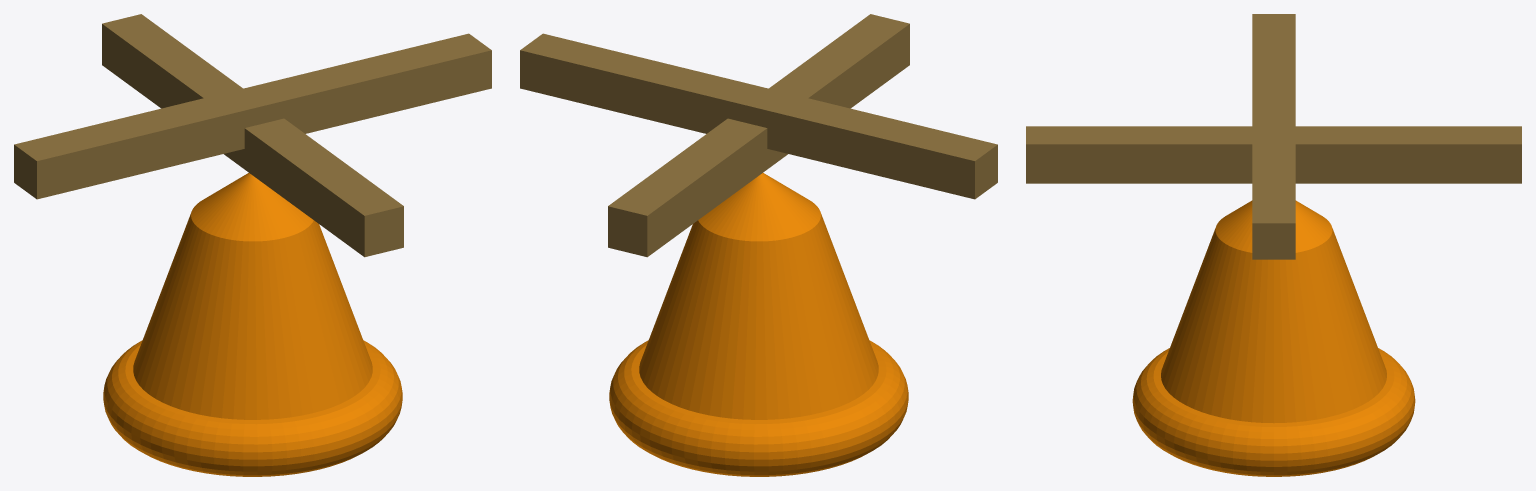
The model's file is Bell.fbx.
3 views of the same model, side by side, from view 1: azimuth 30°, elevation 25°; view 2: azimuth 150°, elevation 25°; view 3: azimuth 270°, elevation 25° (orthographic). The views are drawn at different scales.
Parts seen in each view (by area): view 1: Torus.001; view 2: Torus.001; view 3: Torus.001.
Boxes of the visible parts, x1,y1,x2,y2 form: Torus.001: [14, 14, 491, 476]; Torus.001: [520, 14, 997, 476]; Torus.001: [1026, 14, 1521, 476].
Bounding box in the file's own units: 438 × 300 × 438.
